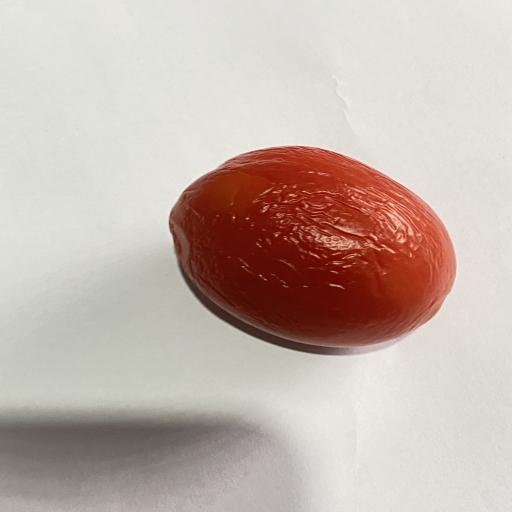spoiled: (170, 146, 456, 346)
